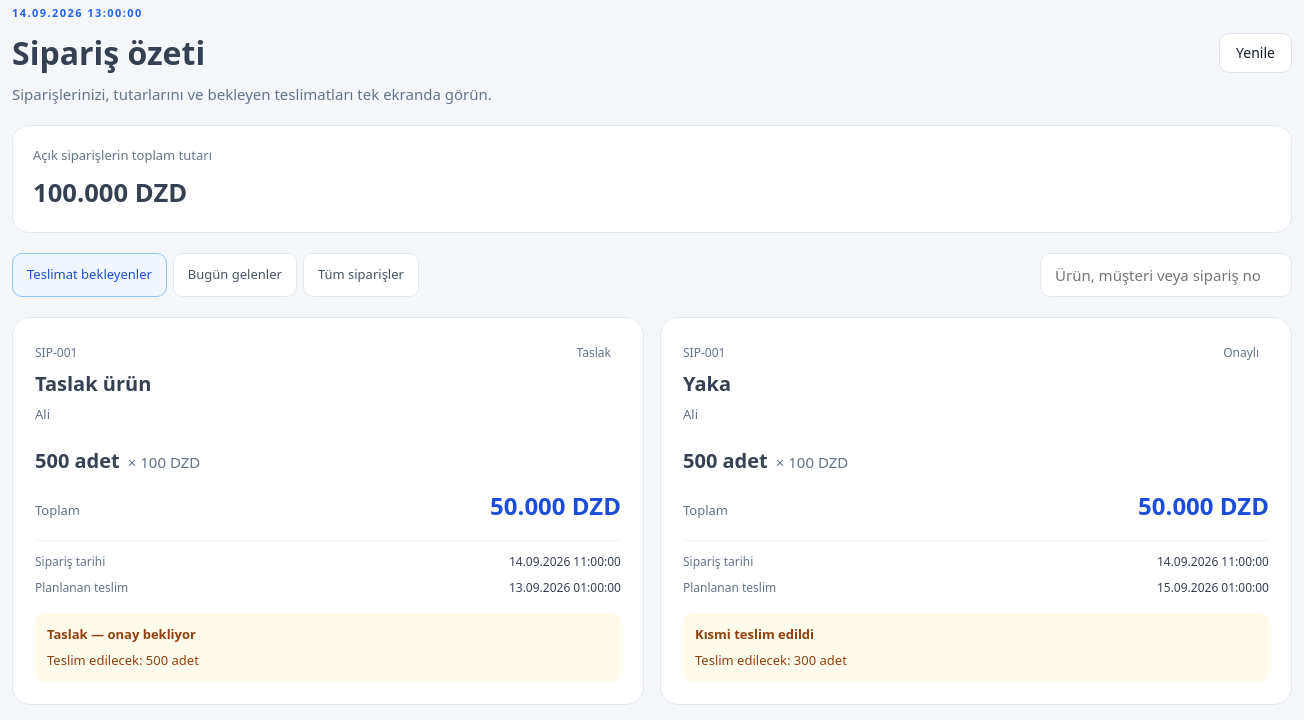
Test case: home order summary › separates pending deliveries, drafts and completed or cancelled orders
Expected: the heading "Yaka" is shown, top-left (683, 369), bottom-right (731, 399)
Expected: the text "Kısmi teslim edildi" is shown, top-left (695, 625), bottom-right (814, 643)
Click the button "Tüm siparişler" at {"x": 361, "y": 275}, box top-left (303, 253), bottom-right (419, 297)
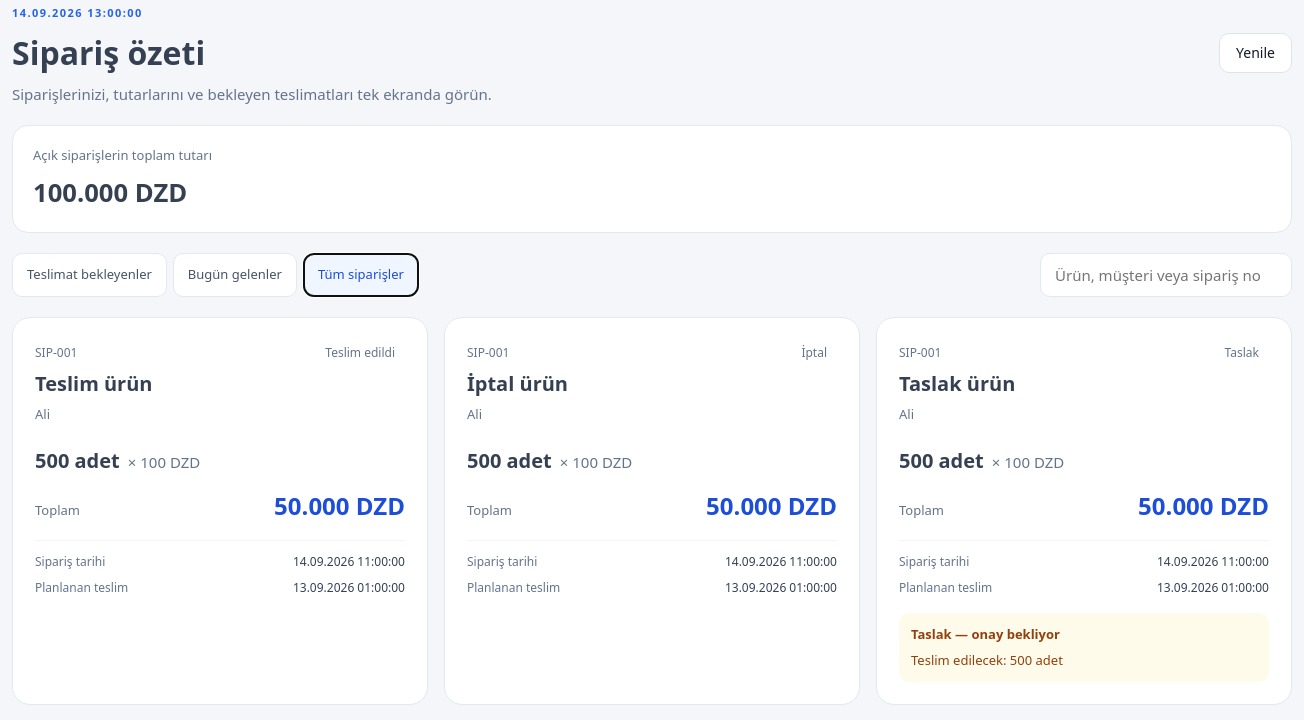
Now the heading "Teslim ürün" is shown, box top-left (35, 369), bottom-right (152, 399)
